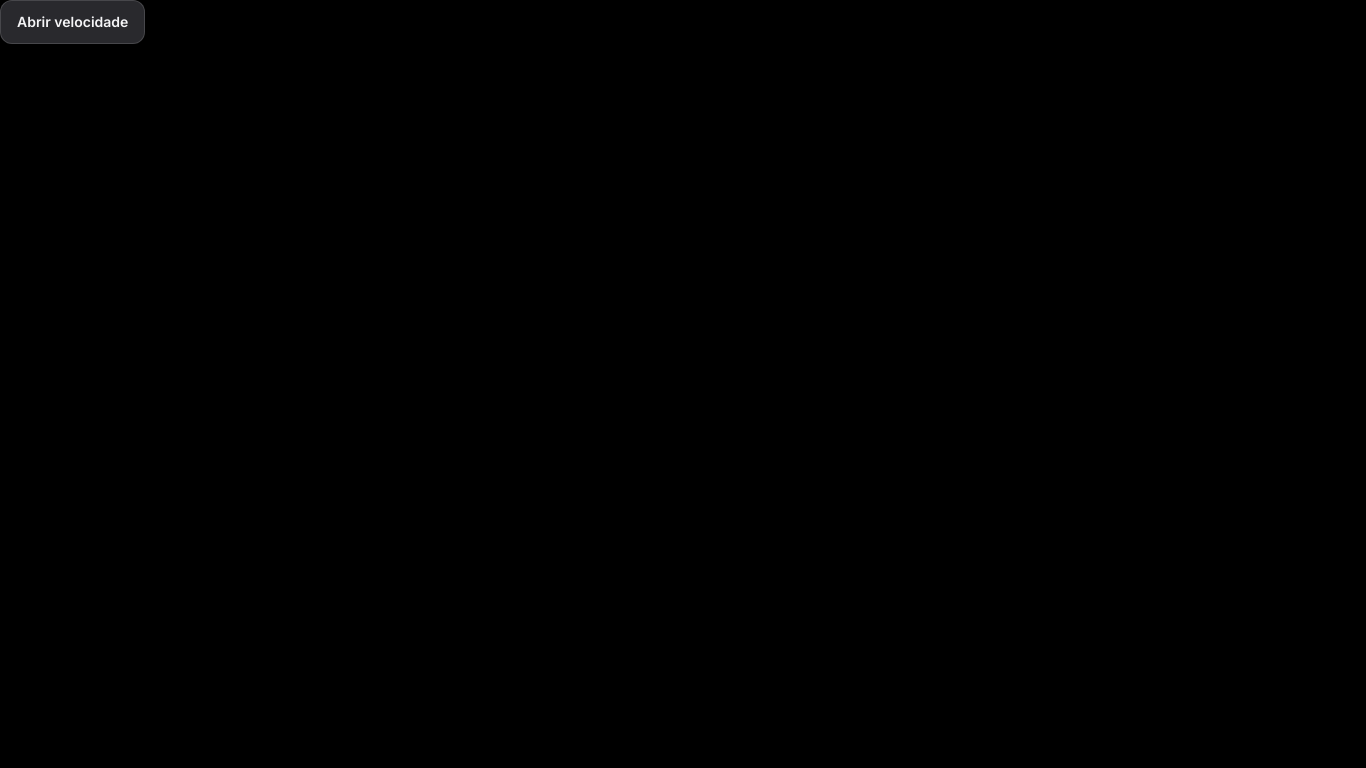
it: BottomSheet › abre como diálogo nomeado pelo título e fecha no ✕, devolvendo o foco
The width and height of the screenshot is (1366, 768).
Later steps or results of the test are not shown.
Click the button "Abrir velocidade" at x=73, y=22, box [0,0,145,44]
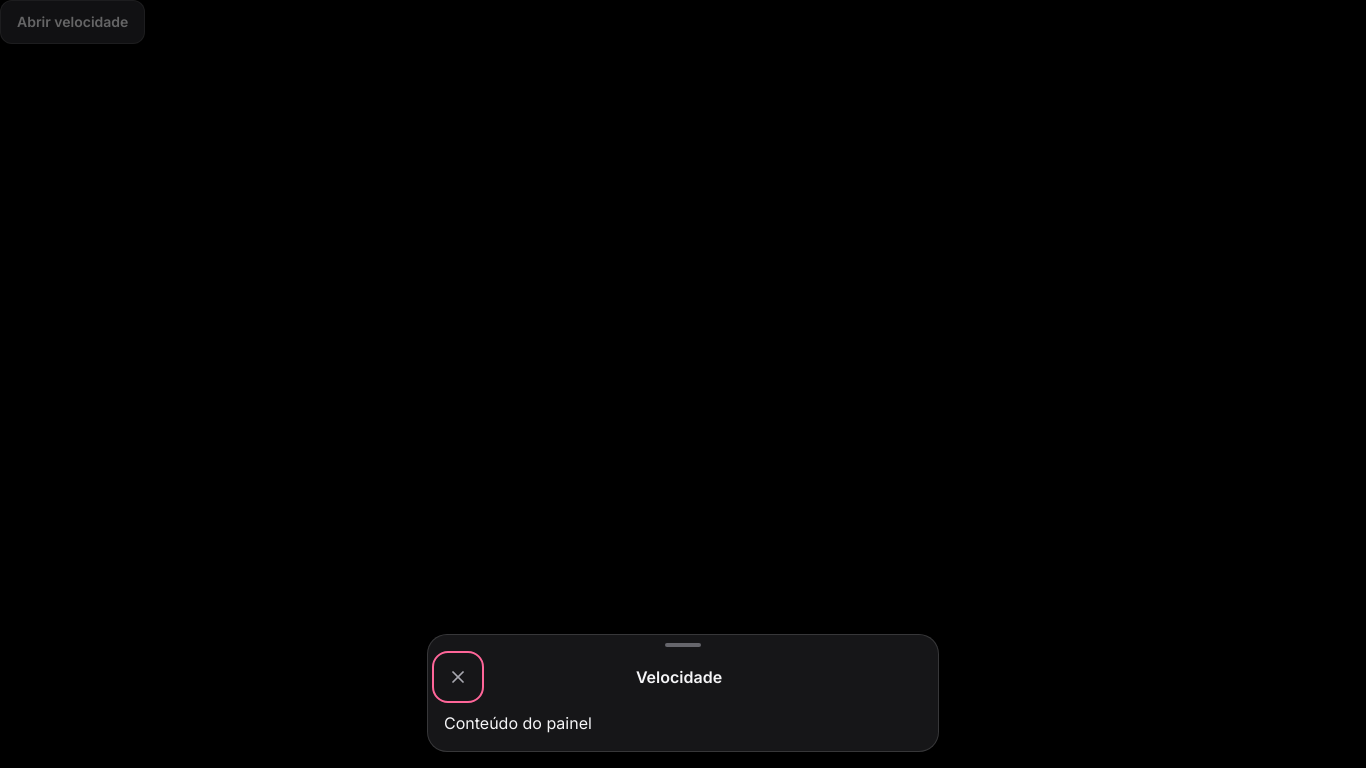
Result: the dialog "Velocidade Conteúdo do painel" is shown at [427,634,939,767]
